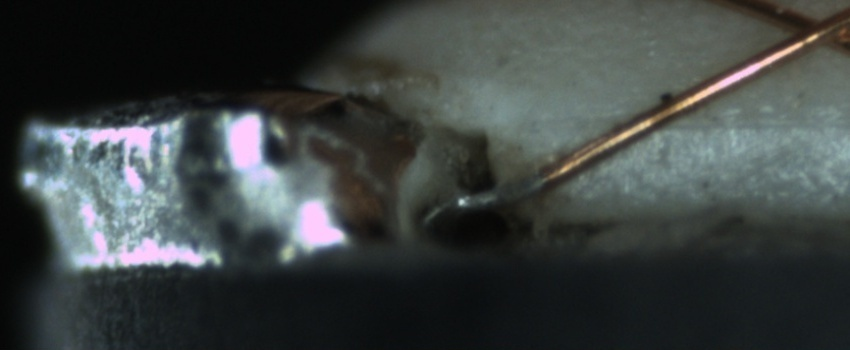CL: (765, 2, 849, 61)
DL: (561, 89, 850, 152)
TS: (451, 168, 543, 214)
TTCW: (450, 157, 571, 214)
